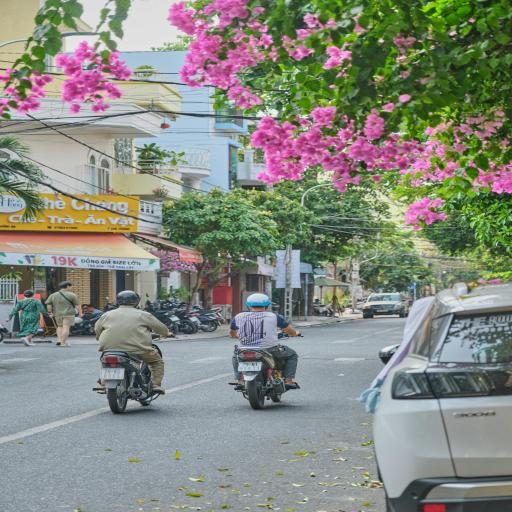place: (240, 362, 262, 372), (103, 370, 123, 378)
